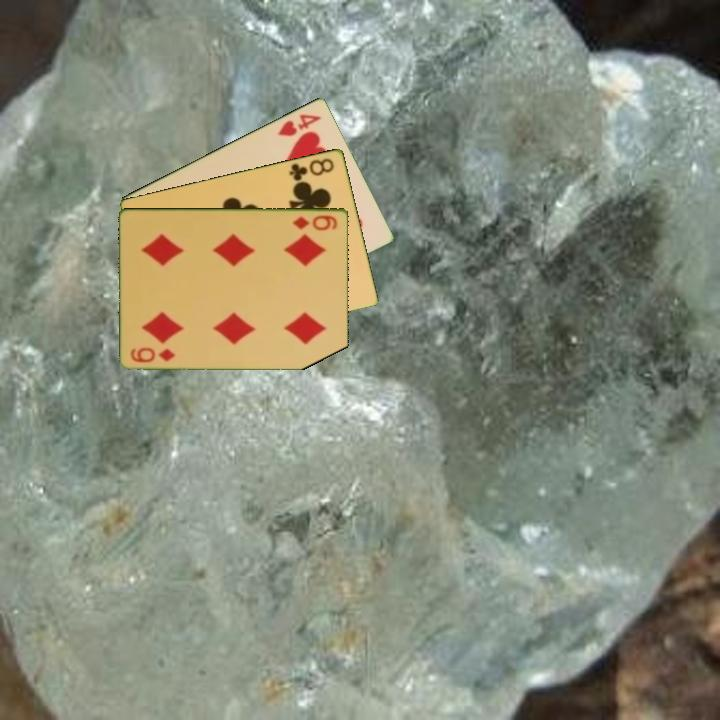4h: (274, 110, 324, 139)
6d: (289, 211, 340, 233), (127, 344, 178, 365)
8c: (286, 154, 337, 184)
